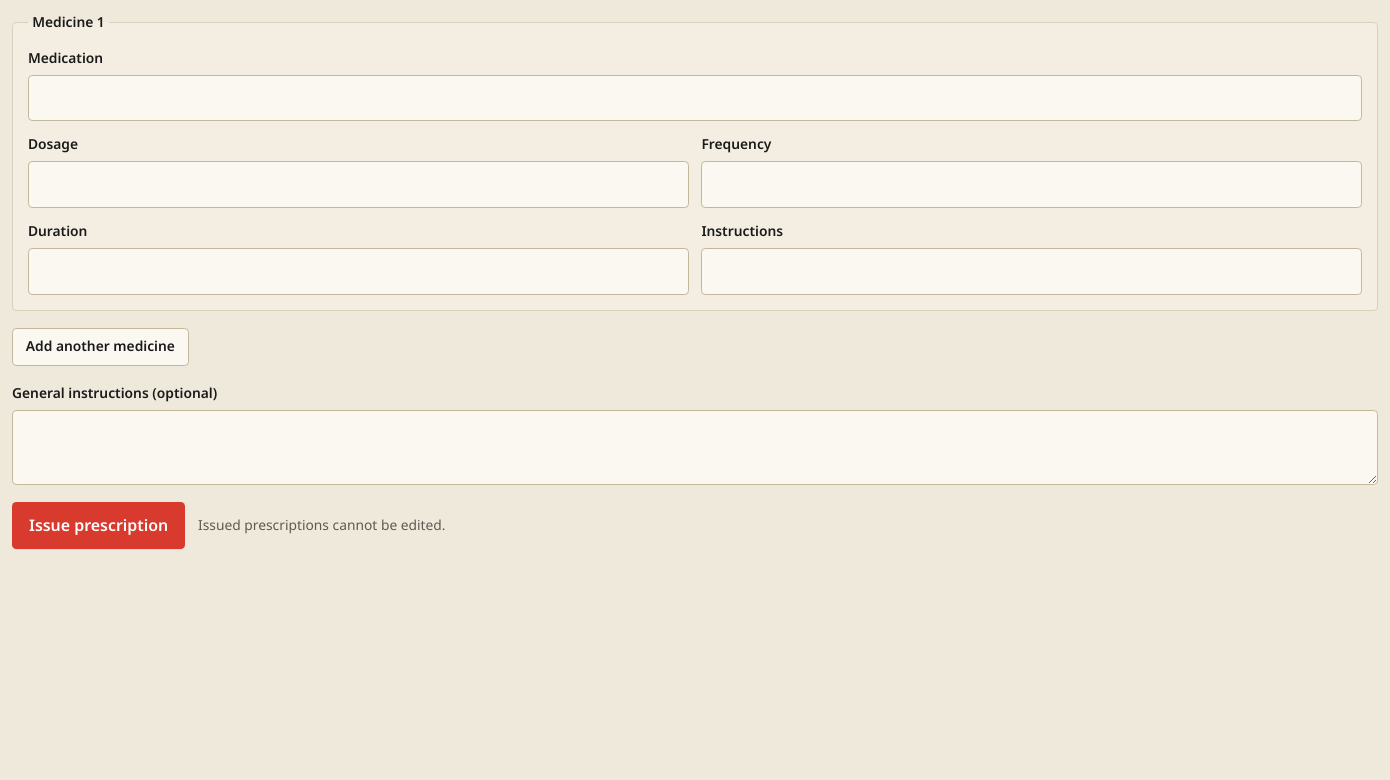
Test case: PrescriptionForm › can remove an added medicine
Click the button "Add another medicine": x=100, y=347 [12,328,189,366]
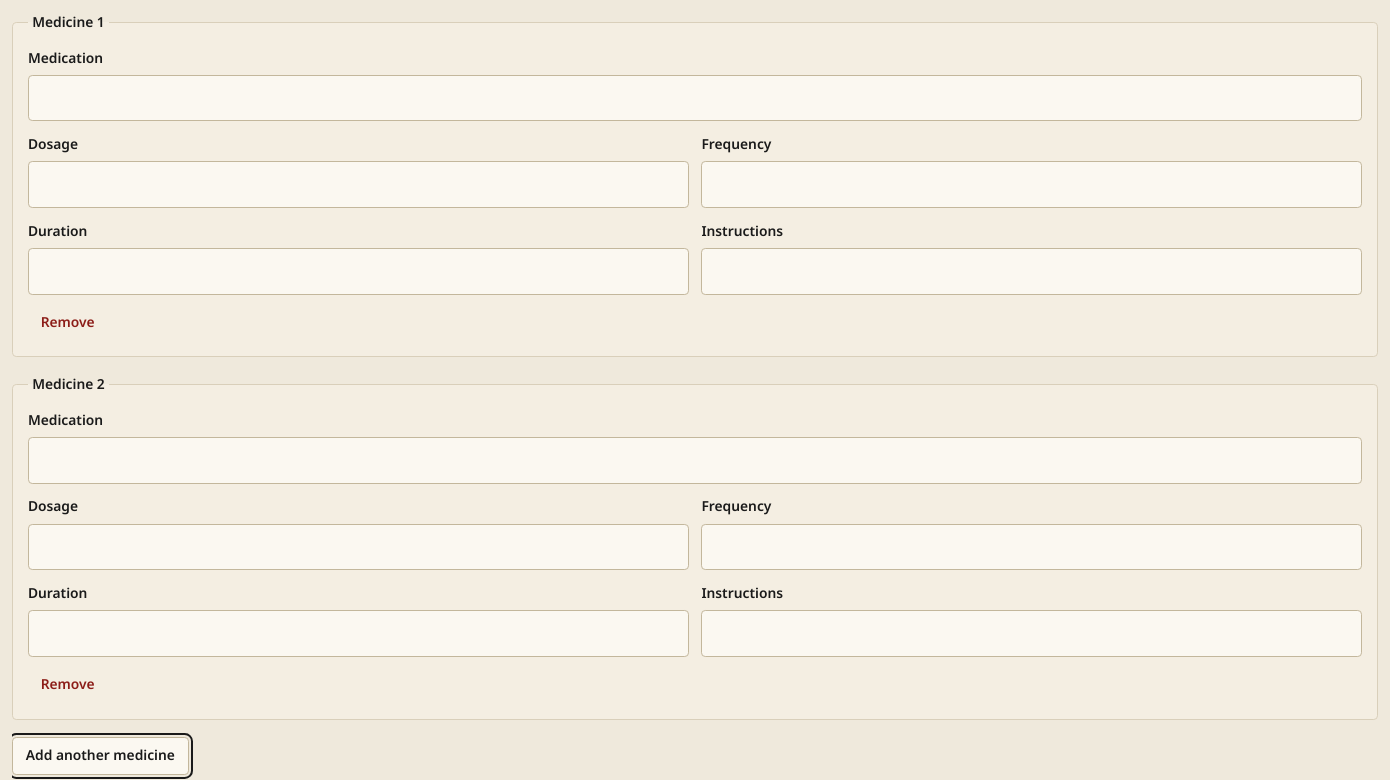
Expected: the text "Medicine 2" is shown, [28,374,109,395]
Click the button "Remove" below "Medicine 2": x=68, y=685 [28,665,107,704]
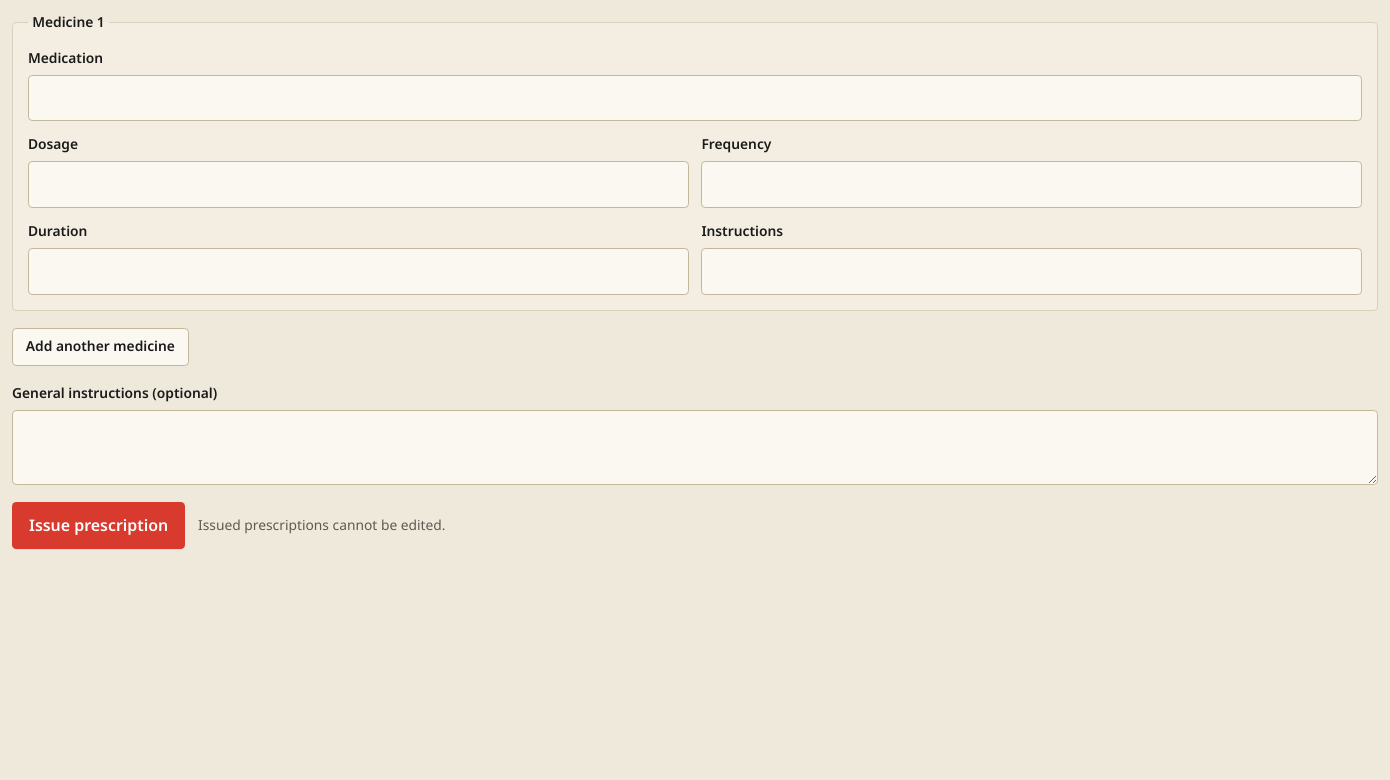
Expected: the text "Medicine 2" is gone
